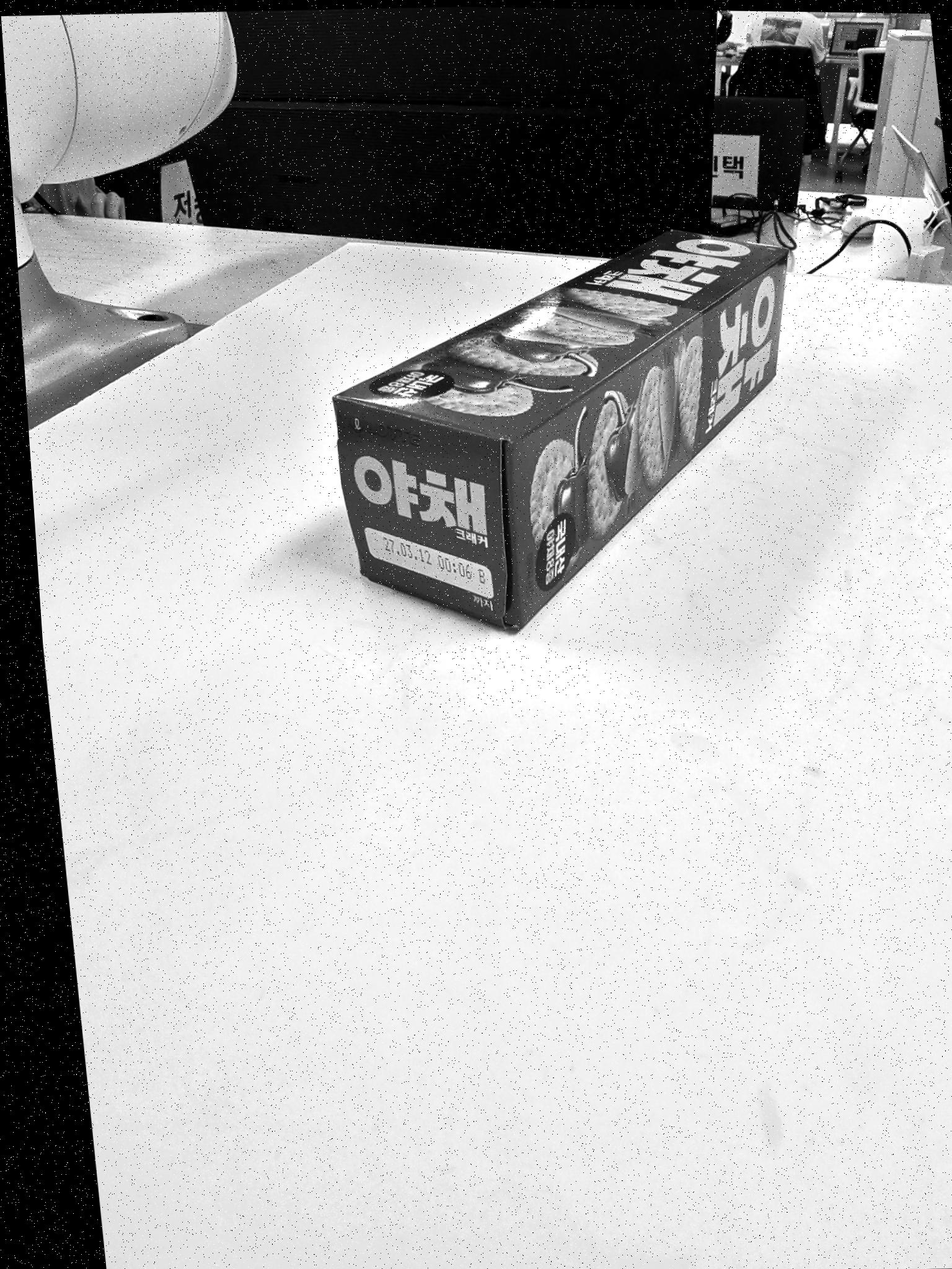cracker_vege: (333, 231, 786, 626)
